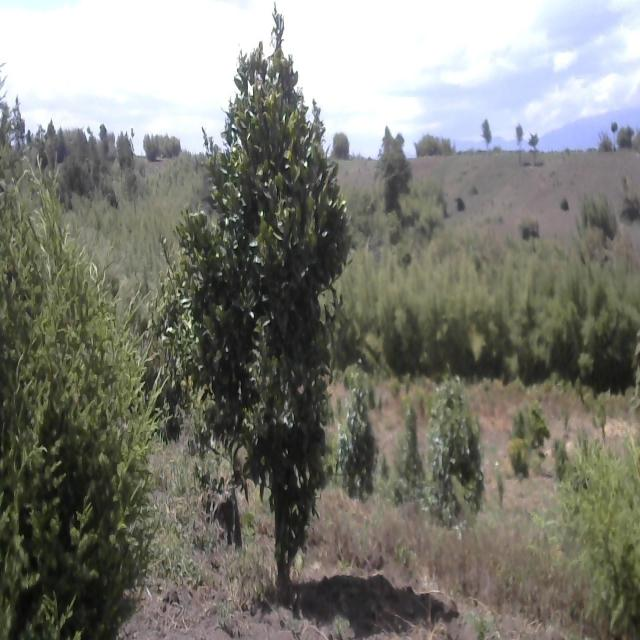cedrus: (0, 142, 161, 640)
other: (191, 16, 360, 554)
